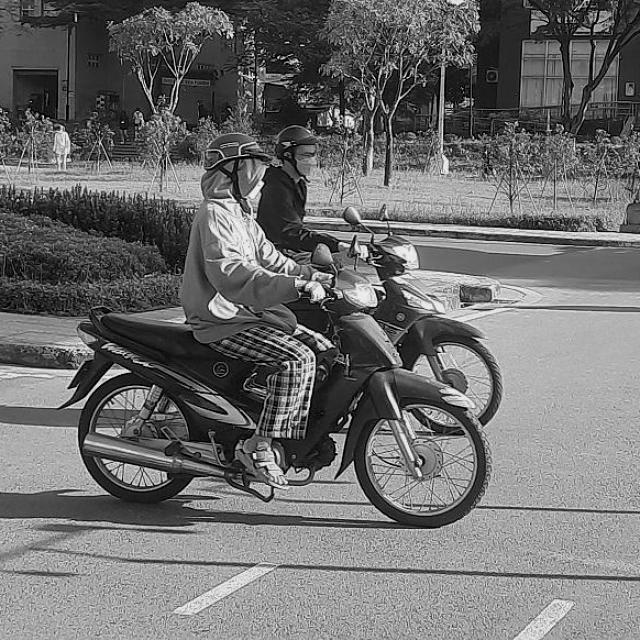Helmet: (198, 131, 268, 201), (273, 122, 321, 182)
